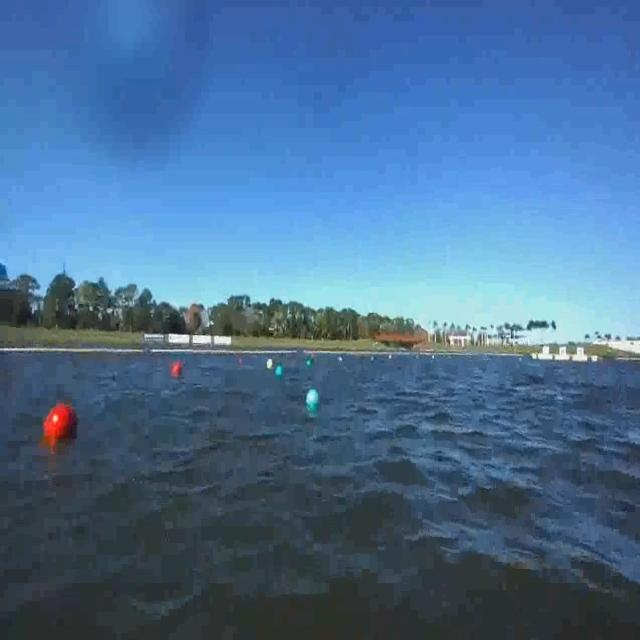green-buoy: (305, 388, 319, 410)
red-buoy: (42, 399, 78, 449)
